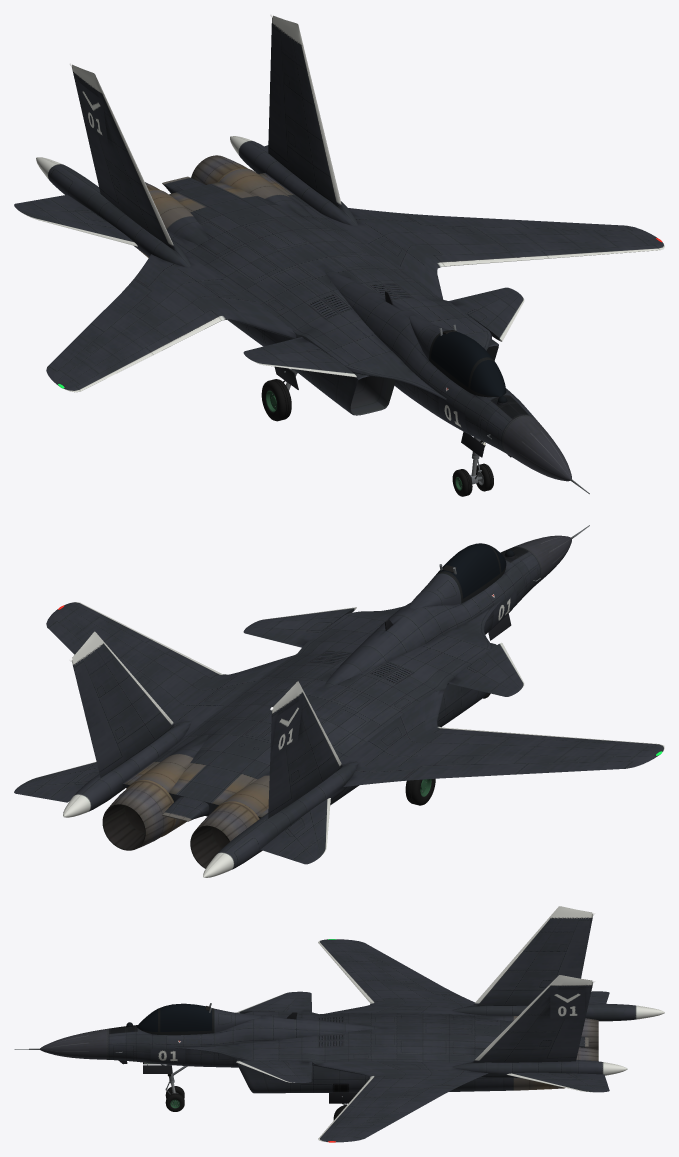
3 views of the same model, one above another, from view 1: azimuth 30°, elevation 25°; view 2: azimuth 150°, elevation 25°; view 3: azimuth 270°, elevation 25° (orthographic). The views are drawn at different scales.
Parts seen in each view (by area): view 1: airframe, canard_l_mesh, stab_l_mesh, gear_r_mesh, nozzle_l, nose_wheels; view 2: airframe, canard_l_mesh, stab_l_mesh, nozzle_l, nozzle_r, gear_r_mesh; view 3: airframe, canard_l_mesh, stab_l_mesh, nose_leg, nozzle_r, nose_wheels, gear_l_mesh.
Part boxes in pixels (x1,y1,x2,y2): airframe: [36, 14, 664, 494]; canard_l_mesh: [243, 287, 524, 377]; stab_l_mesh: [14, 145, 268, 246]; gear_r_mesh: [261, 366, 298, 421]; nozzle_l: [191, 155, 251, 184]; nose_wheels: [452, 463, 493, 496]; airframe: [46, 525, 664, 877]; canard_l_mesh: [243, 607, 524, 696]; stab_l_mesh: [14, 761, 330, 864]; nozzle_l: [102, 779, 176, 850]; nozzle_r: [190, 801, 259, 868]; gear_r_mesh: [405, 778, 435, 805]; airframe: [14, 906, 664, 1142]; canard_l_mesh: [236, 991, 311, 1082]; stab_l_mesh: [507, 991, 609, 1092]; nose_leg: [143, 1062, 187, 1094]; nozzle_r: [581, 1018, 598, 1049]; nose_wheels: [165, 1086, 184, 1111]; gear_l_mesh: [329, 1092, 357, 1120].
Size of the model in its own units: 16.7 by 6.4 by 22.6.
4 materials, 2 textured.
